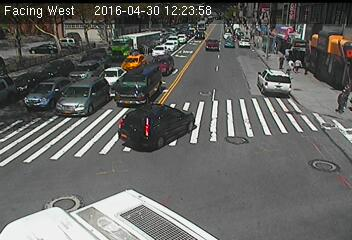neg: (74, 177, 97, 208), (61, 48, 83, 76), (50, 132, 69, 157), (263, 137, 280, 160), (27, 84, 44, 107), (118, 34, 134, 55), (204, 66, 219, 87), (186, 92, 201, 112), (324, 38, 339, 58), (251, 29, 264, 46), (303, 22, 316, 39), (234, 77, 246, 94), (227, 34, 239, 51), (172, 42, 184, 58), (156, 115, 168, 130), (246, 137, 257, 151), (115, 115, 125, 129), (200, 44, 210, 57), (218, 124, 227, 136)
pos: (333, 85, 351, 115), (291, 56, 305, 75), (279, 61, 293, 80), (273, 53, 287, 71), (285, 55, 295, 68)
